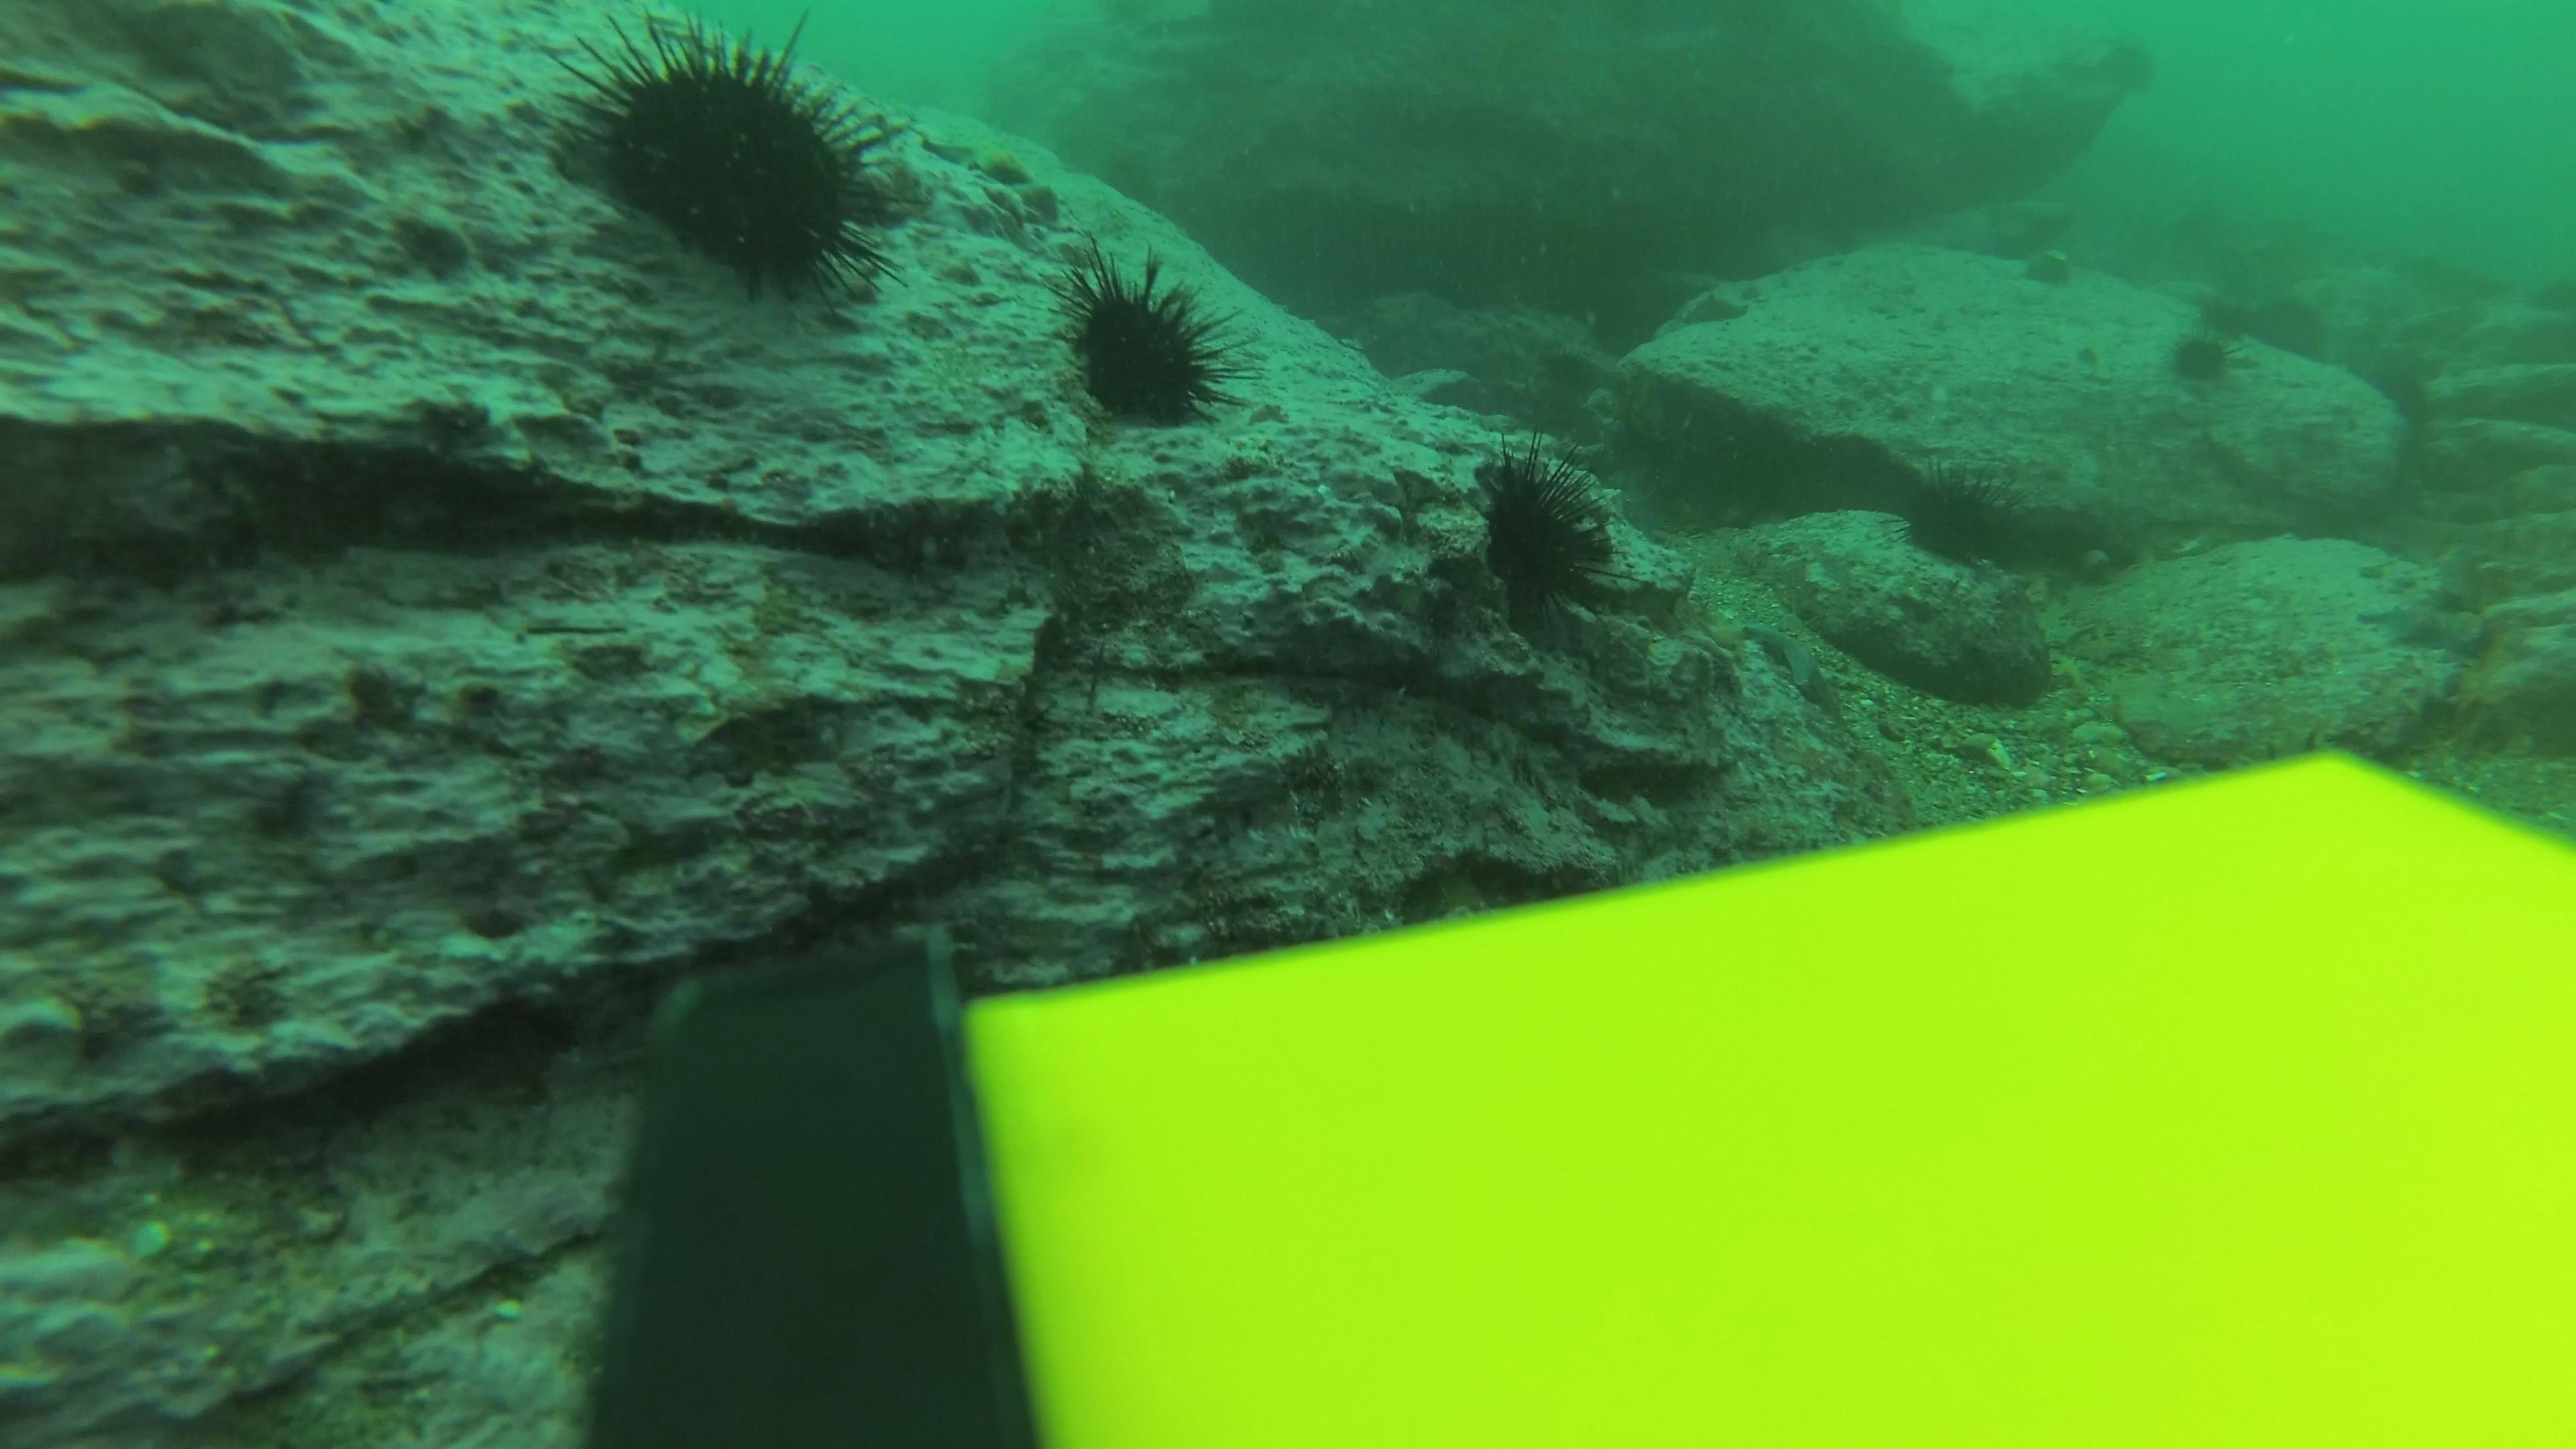echinus: (550, 14, 915, 313), (1049, 248, 1244, 435), (1463, 439, 1628, 644), (1888, 465, 2040, 577), (2158, 317, 2250, 396)
starfish: (1727, 598, 1851, 717), (908, 106, 1070, 195), (2353, 593, 2488, 656), (1663, 272, 1762, 334)
